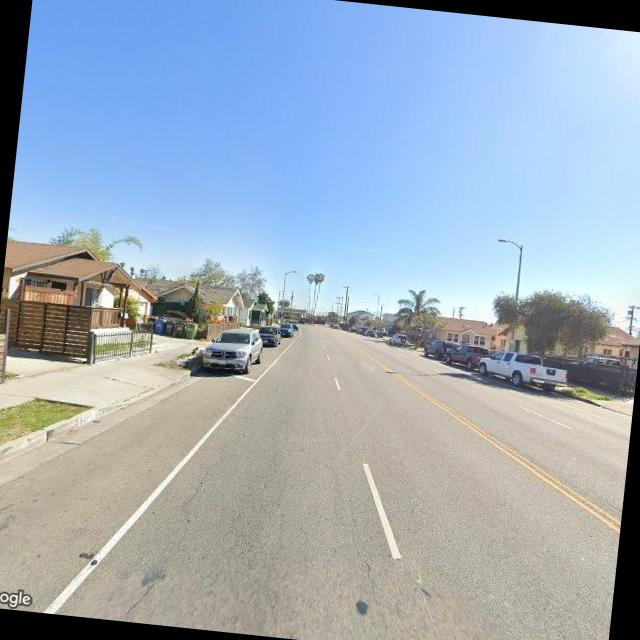pothole: (171, 464, 210, 549)
